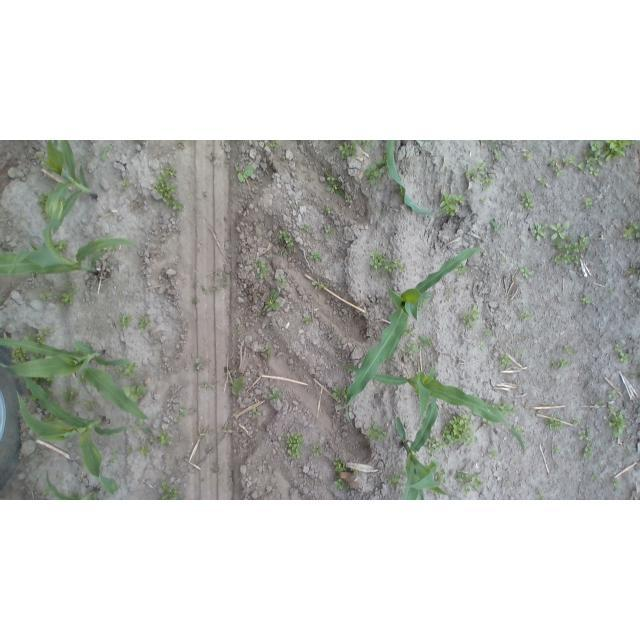Maize: (342, 247, 480, 405), (346, 364, 527, 457), (16, 377, 141, 495), (0, 337, 148, 419), (39, 141, 96, 268), (0, 240, 140, 276), (396, 417, 454, 500), (384, 141, 432, 216), (46, 469, 100, 500)
Weeds: (578, 140, 634, 178), (153, 164, 184, 212), (555, 235, 590, 266), (370, 248, 406, 278), (440, 415, 473, 446), (467, 162, 494, 192), (607, 402, 629, 436), (440, 192, 468, 217), (364, 157, 387, 185), (455, 472, 482, 495), (458, 307, 482, 330), (579, 428, 596, 460), (278, 230, 297, 258), (285, 433, 304, 460), (155, 484, 185, 501), (24, 328, 54, 344), (124, 384, 149, 403), (546, 411, 567, 432), (62, 387, 83, 407), (234, 163, 254, 184), (365, 424, 387, 442), (338, 141, 358, 159), (495, 398, 517, 414), (265, 289, 280, 312), (532, 220, 548, 241), (623, 222, 640, 241), (548, 155, 562, 178), (614, 344, 630, 364), (327, 172, 342, 193), (427, 437, 446, 453), (231, 377, 246, 397), (551, 224, 569, 240), (387, 472, 402, 490), (332, 385, 347, 403), (9, 349, 31, 361), (522, 191, 535, 211), (123, 364, 141, 378), (258, 261, 271, 279), (121, 311, 134, 329), (157, 427, 171, 443), (550, 358, 568, 370), (312, 280, 329, 292), (139, 443, 153, 457), (435, 470, 448, 485), (333, 456, 346, 471), (138, 315, 151, 330), (309, 443, 322, 458), (269, 388, 282, 402), (56, 240, 69, 254), (492, 221, 505, 234), (520, 266, 533, 279), (61, 293, 74, 306), (405, 342, 419, 354), (178, 408, 189, 423), (358, 140, 374, 150), (501, 354, 513, 367), (101, 145, 112, 159), (310, 249, 322, 261), (564, 344, 575, 357), (583, 198, 594, 211), (195, 359, 206, 372), (628, 263, 640, 274), (564, 155, 577, 165), (455, 265, 465, 278), (341, 192, 351, 205), (418, 336, 434, 344), (486, 447, 498, 457), (276, 274, 286, 286), (405, 324, 415, 336), (608, 390, 621, 399), (539, 177, 549, 188), (252, 407, 262, 418), (325, 204, 334, 216), (41, 291, 53, 300), (336, 478, 344, 491), (266, 140, 279, 148), (534, 487, 544, 497), (87, 399, 97, 409), (524, 151, 533, 162), (491, 153, 501, 162), (301, 223, 311, 232), (69, 491, 79, 500), (65, 279, 75, 288), (176, 141, 186, 150), (123, 177, 132, 187), (522, 312, 533, 320), (443, 289, 454, 297), (582, 296, 591, 305), (323, 225, 332, 234), (611, 478, 620, 487), (592, 473, 600, 482), (486, 140, 495, 148), (592, 400, 604, 406), (484, 328, 494, 335), (127, 446, 135, 454), (303, 317, 311, 325), (634, 369, 640, 379), (350, 469, 361, 474), (201, 382, 210, 388), (200, 286, 208, 292), (572, 418, 581, 423), (553, 446, 559, 453), (517, 349, 524, 355), (515, 428, 523, 433), (479, 341, 484, 349), (40, 490, 48, 495), (501, 257, 508, 262), (111, 450, 119, 454), (203, 191, 208, 197), (264, 346, 269, 351), (213, 286, 218, 291)
